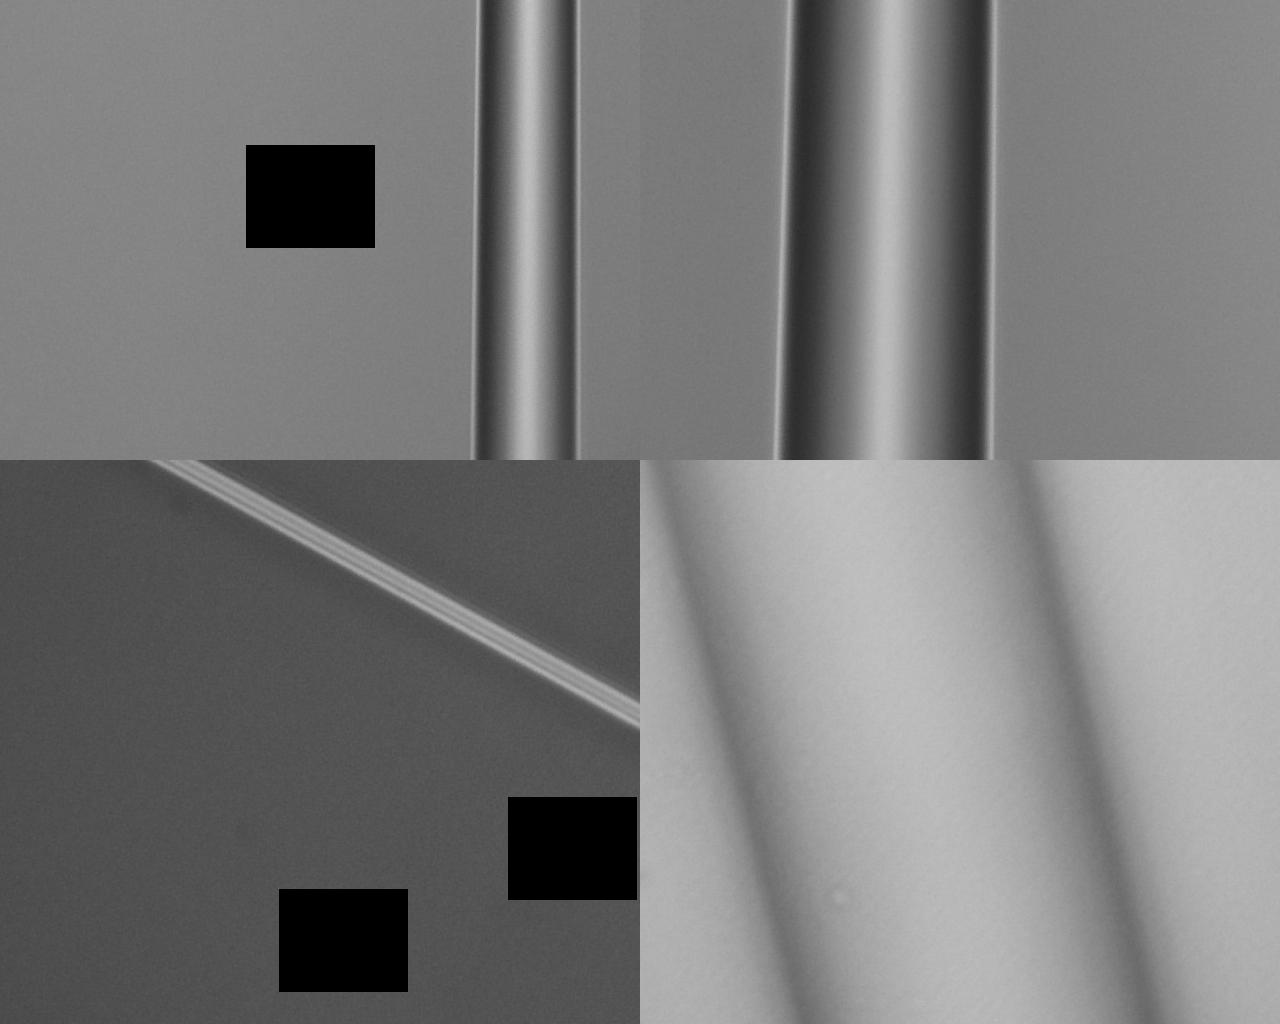fiber: (127, 171, 1151, 773)
